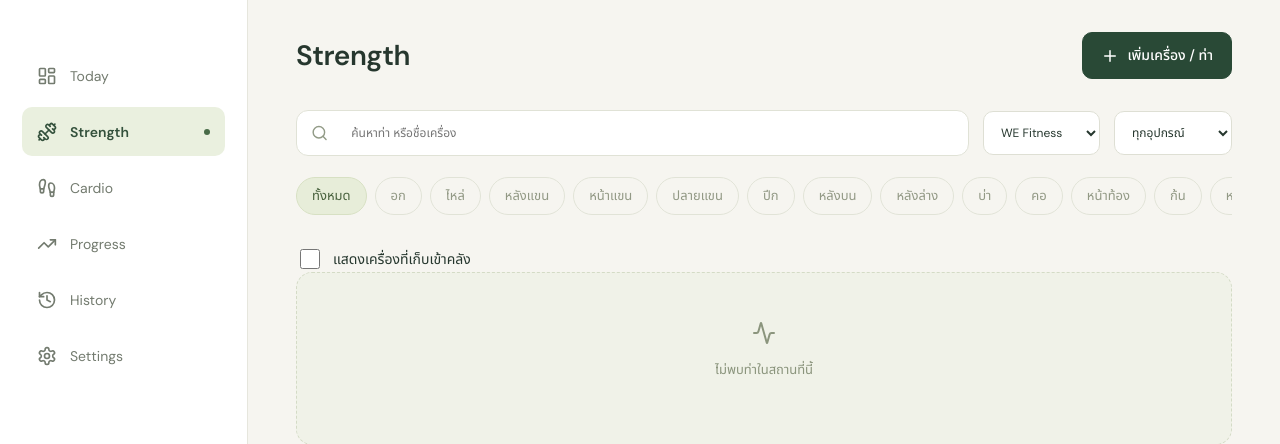
shows Dumbbell Reverse Curl under the home filter with editable photos
Later steps or results of the test are not shown.
Select "ที่บ้าน" in the dropdown named "ฟิตเนส" at (1042, 133), box [983, 111, 1100, 155]
(page scrolled)
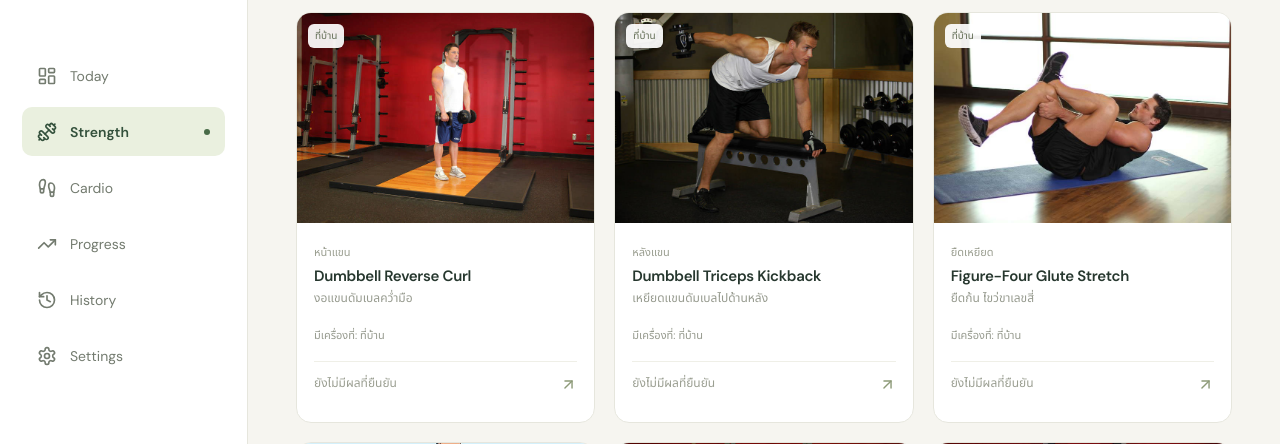
Click the heading "Dumbbell Reverse Curl" at (393, 276), box [314, 266, 471, 286]
(page scrolled)
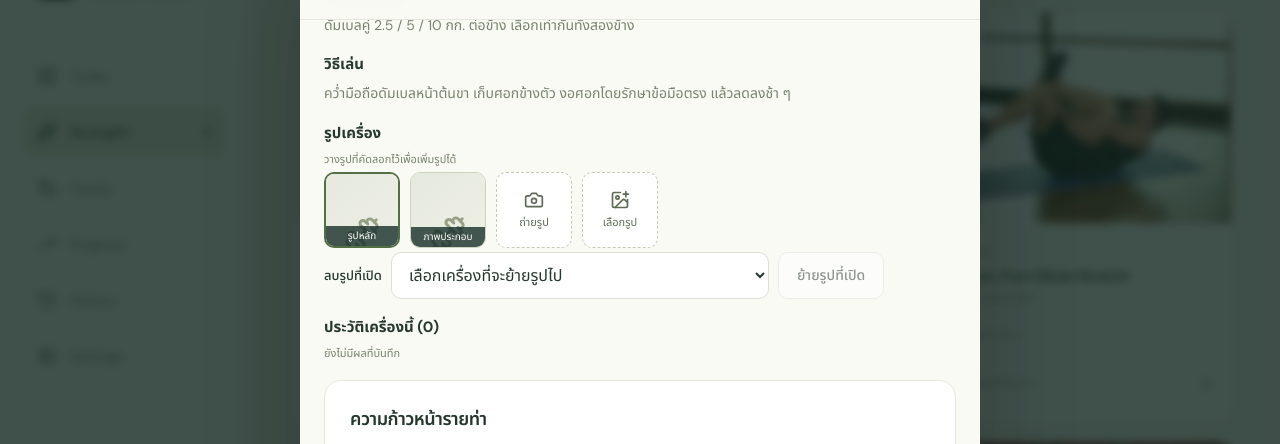
Expected: the button "รูปหลัก" is shown, [324, 172, 400, 248]
Expected: the number of buttons named "เปิดรูปเครื่อง" is 1, [410, 172, 486, 248]
Expected: the file field labelled "เลือกรูป" is shown, [582, 172, 658, 248]
